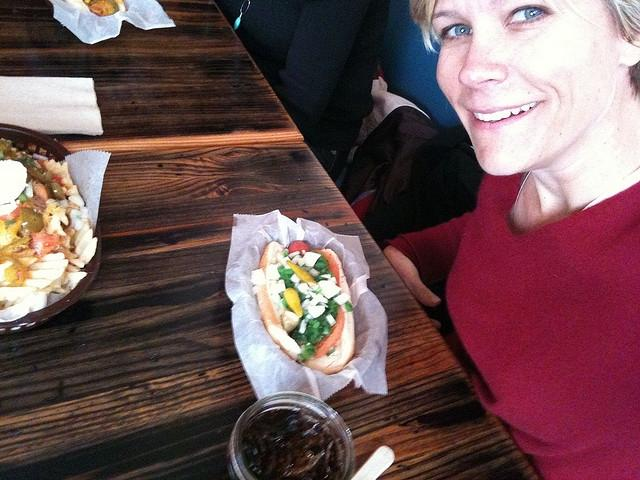tomato: (312, 303, 344, 358), (28, 232, 68, 258), (314, 250, 340, 287), (0, 206, 20, 222), (288, 241, 310, 254)
